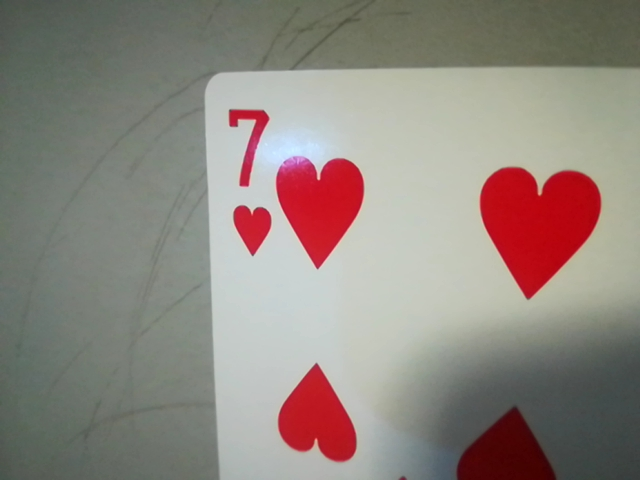hx 7: (215, 94, 277, 272)
